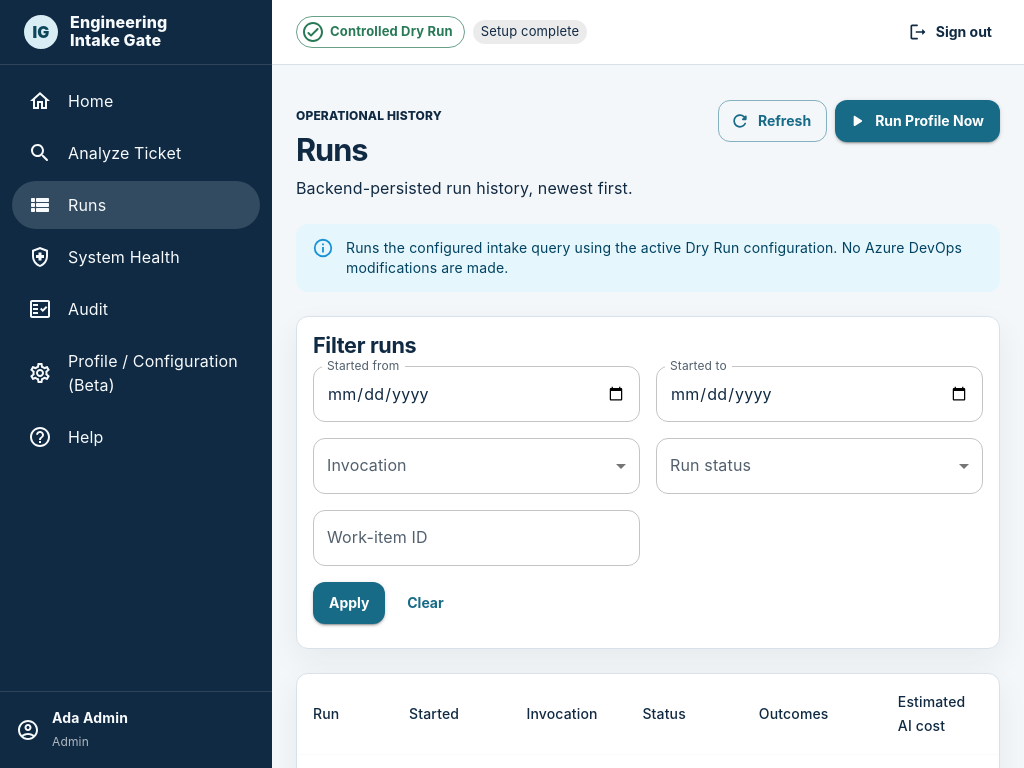
Test case: OPS-UI-003 Run Profile Now › shows a bounded lease conflict and does not imply queuing
Click the button "Run Profile Now" at (918, 121), box [835, 100, 1000, 142]
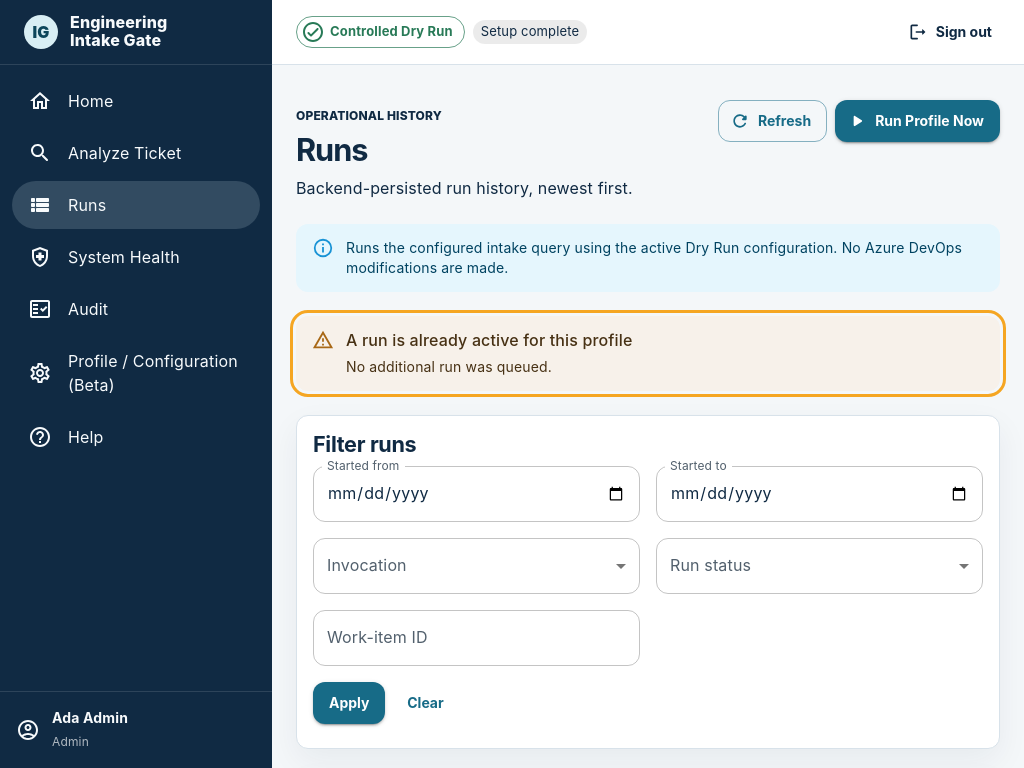
Now the text "A run is already active for this profile" is shown, box [346, 330, 632, 350]
Now the text "A run is already active for this profile" shows "No additional run was queued", box [346, 358, 552, 375]
